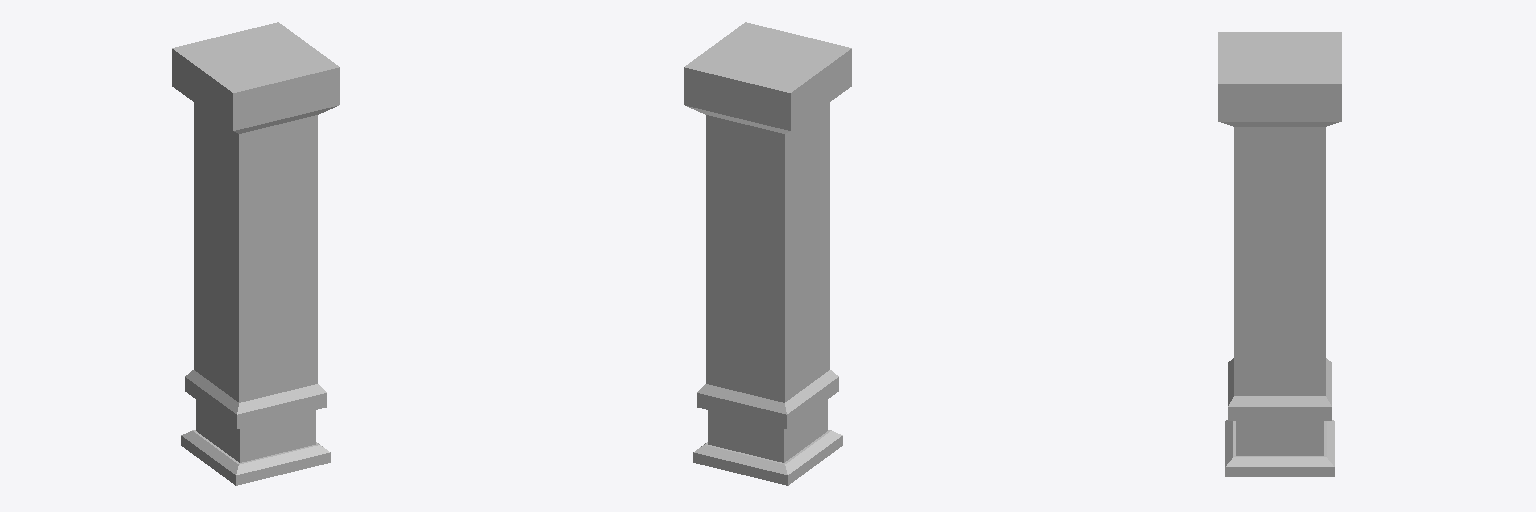
Rendered from pillar.obj.
3 views of the same model, side by side, from view 1: azimuth 30°, elevation 25°; view 2: azimuth 150°, elevation 25°; view 3: azimuth 270°, elevation 25° (orthographic).
Parts seen in each view (by area): view 1: Plane; view 2: Plane; view 3: Plane.
Boxes of the visible parts, x1,y1,x2,y2 form: Plane: [172, 22, 339, 485]; Plane: [684, 22, 851, 485]; Plane: [1218, 32, 1341, 476].
Size of the model in its own units: 2.25 by 8 by 2.25.